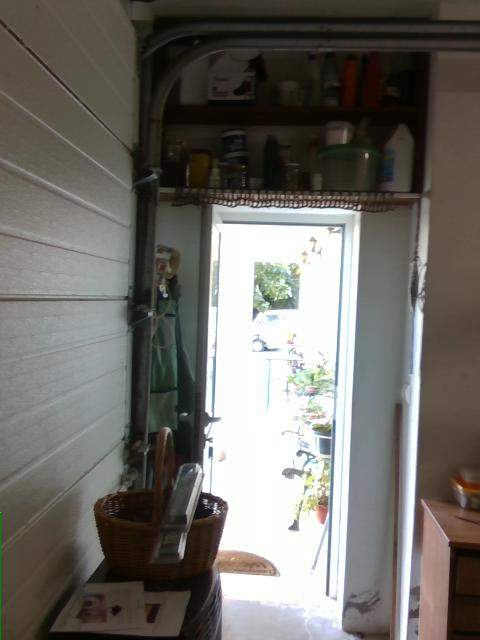open_door: (197, 204, 365, 629)
